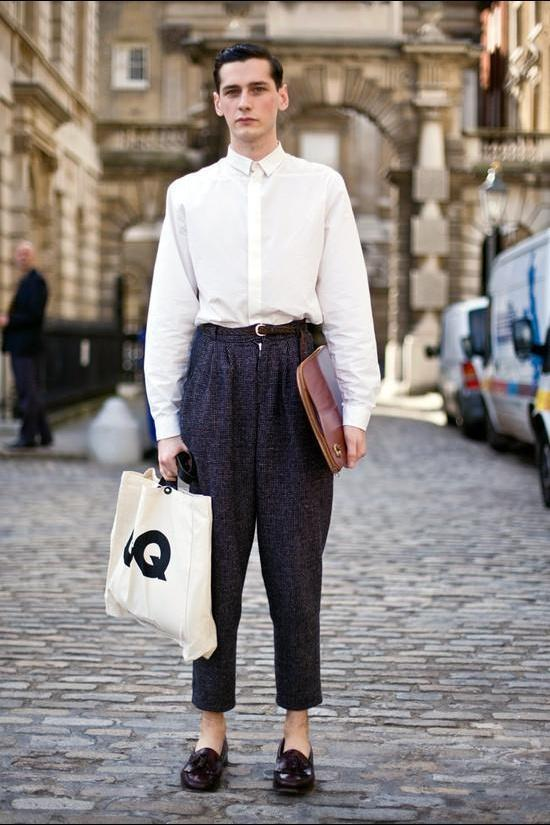pants: (179, 322, 334, 715)
shirt: (144, 141, 381, 443)
